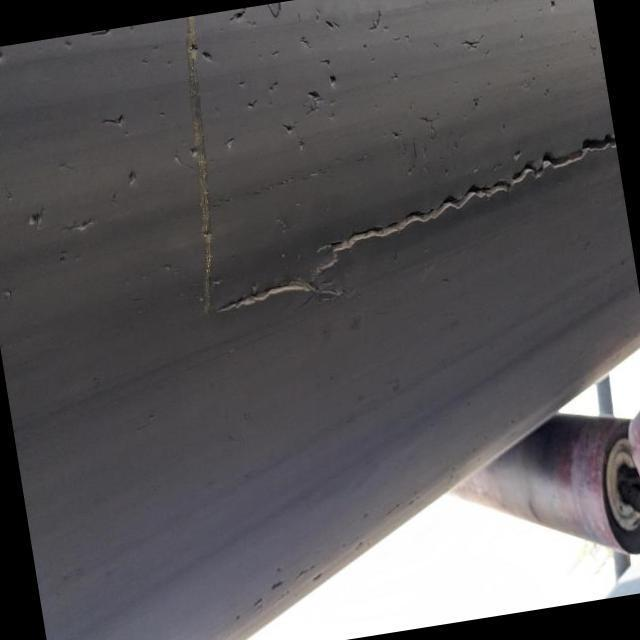Puncture: (26, 206, 48, 230), (229, 6, 249, 26), (266, 0, 284, 21), (124, 166, 140, 188), (506, 147, 528, 162), (322, 15, 340, 32), (324, 73, 342, 89), (220, 134, 238, 150), (306, 88, 322, 102), (243, 99, 260, 111), (199, 50, 214, 63), (187, 144, 200, 158), (188, 40, 200, 54), (549, 0, 558, 9)
Tear: (212, 130, 618, 320), (174, 18, 217, 316), (457, 34, 487, 52), (100, 111, 128, 129)
